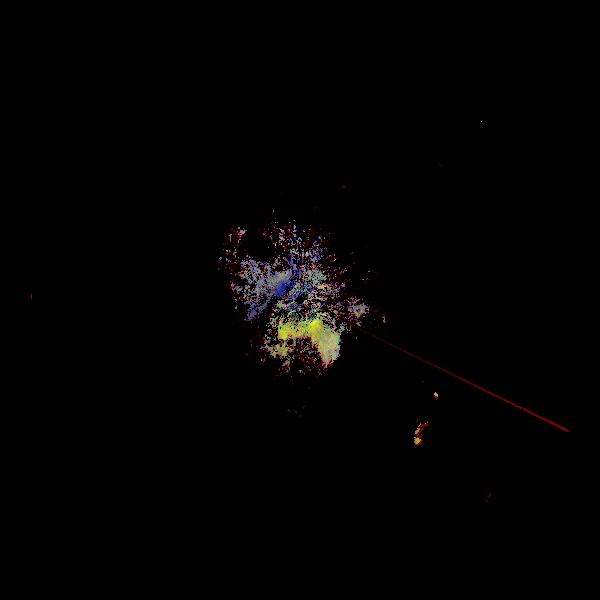roost: (239, 306, 365, 432), (394, 403, 502, 511), (304, 292, 403, 391)
